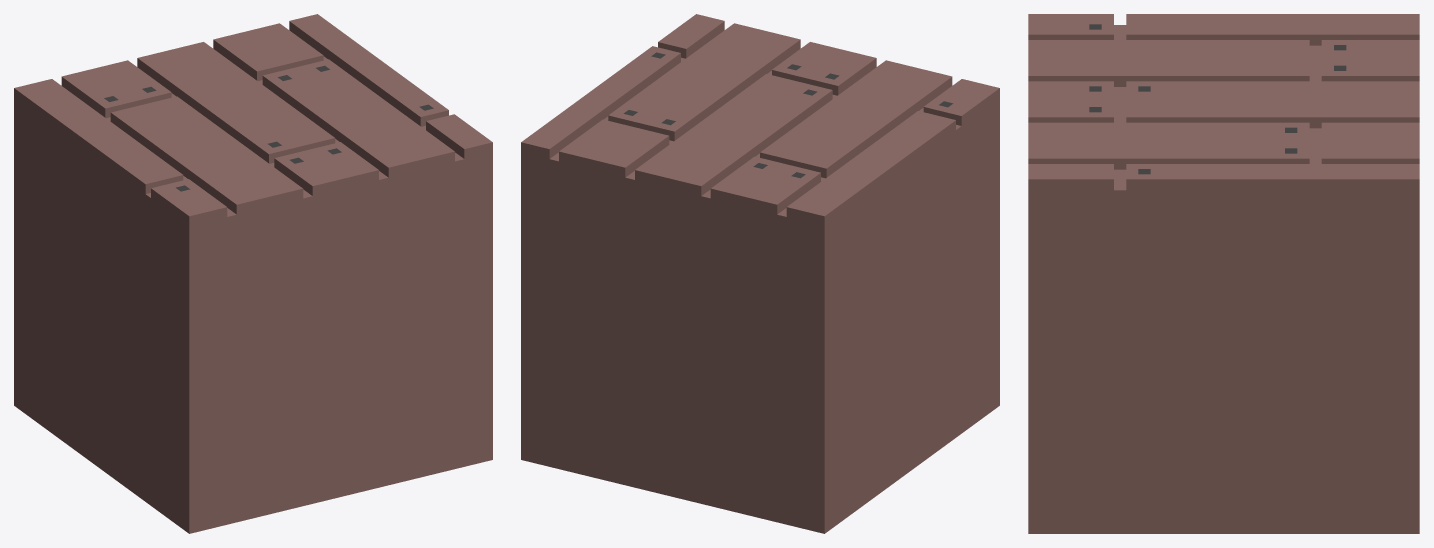
The model's file is Wooden Floor.obj.
The picture shows the model from 3 angles, left to right: view 1: azimuth 30°, elevation 25°; view 2: azimuth 150°, elevation 25°; view 3: azimuth 270°, elevation 25°; orthographic projection. The views are drawn at different scales.
Size of the model in its own units: 32 by 32 by 32.
1 material, 1 textured.
